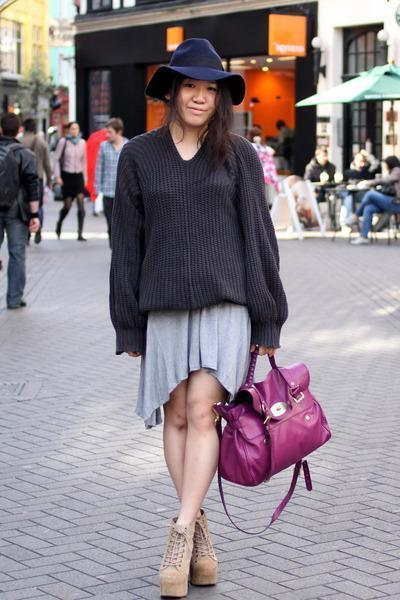skirt: (122, 292, 256, 426)
sweater: (106, 126, 284, 351)
